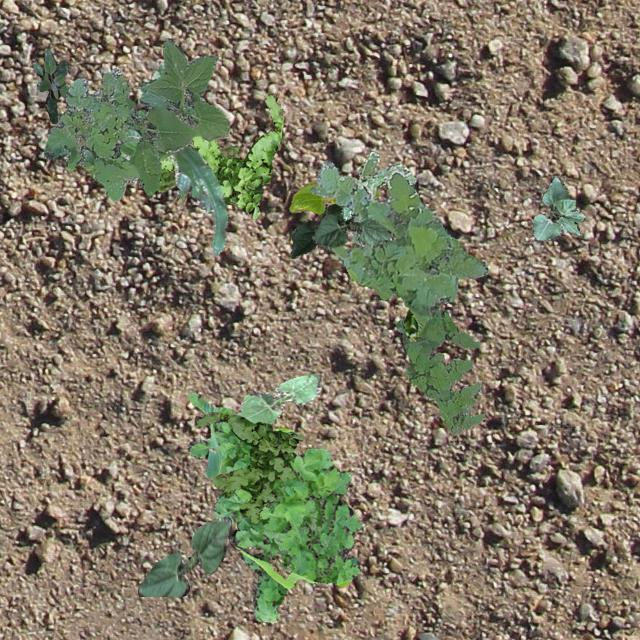crop: (119, 133, 228, 254), (137, 516, 230, 596), (236, 372, 320, 423), (290, 202, 356, 258), (532, 174, 584, 240), (288, 178, 378, 212), (310, 212, 394, 248), (125, 60, 163, 136), (402, 308, 423, 341)
weed: (186, 392, 364, 622), (316, 160, 488, 322), (124, 38, 228, 194), (158, 91, 282, 218), (43, 68, 138, 200), (194, 411, 302, 524), (395, 308, 483, 432), (308, 150, 416, 220), (156, 146, 238, 200), (32, 48, 68, 122)
